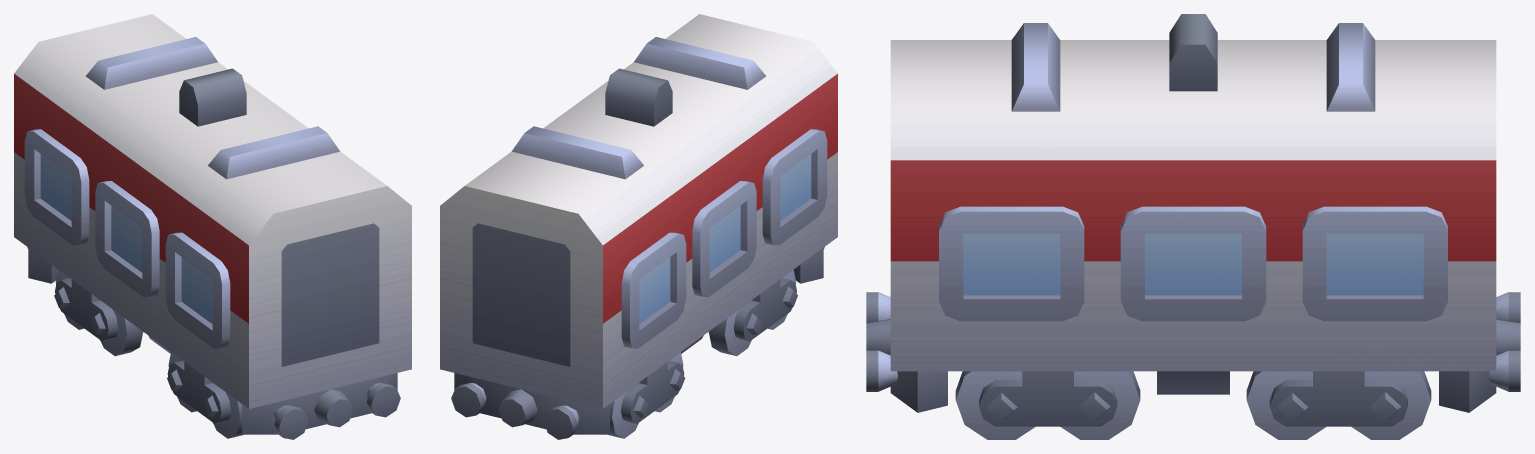
File: train-electric-city-c.glb
The picture shows the model from 3 angles, left to right: view 1: azimuth 30°, elevation 25°; view 2: azimuth 150°, elevation 25°; view 3: azimuth 270°, elevation 25°; orthographic projection. The views are drawn at different scales.
Parts seen in each view (by area): view 1: train-electric-city-c, wheels-back, wheels-front; view 2: train-electric-city-c, wheels-front, wheels-back; view 3: train-electric-city-c, wheels-back, wheels-front.
Boxes of the visible parts, box(x1,y1,x2,y2) form: train-electric-city-c: box(14, 14, 411, 439); wheels-back: box(54, 270, 143, 356); wheels-front: box(167, 352, 243, 438); train-electric-city-c: box(440, 14, 837, 439); wheels-front: box(708, 270, 797, 356); wheels-back: box(608, 352, 685, 438); train-electric-city-c: box(866, 14, 1520, 412); wheels-back: box(1246, 371, 1431, 439); wheels-front: box(955, 371, 1140, 439).
Bounding box in the file's own units: 1.1 × 1.68 × 2.7.
Materials: 1 (1 with a texture image).
